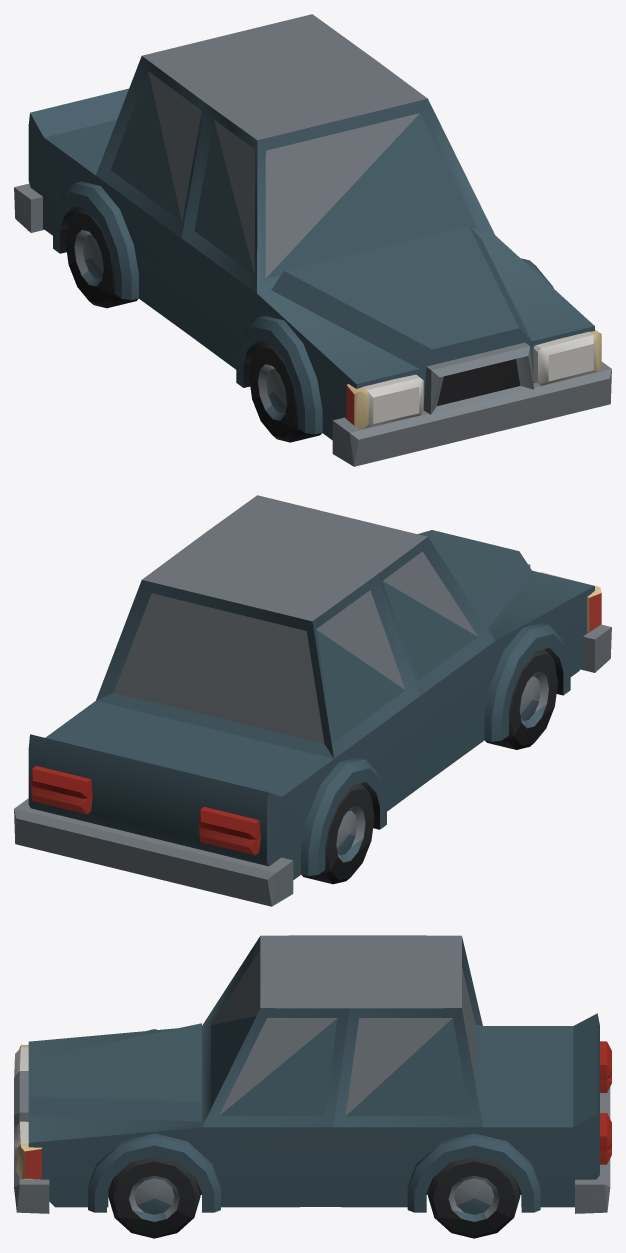
Rendered from sedan.high.6960ed50.glb.
The picture shows the model from 3 angles, top to bottom: view 1: azimuth 30°, elevation 25°; view 2: azimuth 150°, elevation 25°; view 3: azimuth 270°, elevation 25°; orthographic projection. The views are drawn at different scales.
Parts seen in each view (by area): view 1: sedan; view 2: sedan; view 3: sedan.
Boxes of the visible parts, <box> form: sedan: <box>14,14,611,466</box>; sedan: <box>14,495,611,906</box>; sedan: <box>14,935,611,1238</box>.
Size of the model in its own units: 2.14 by 1.89 by 4.8.
